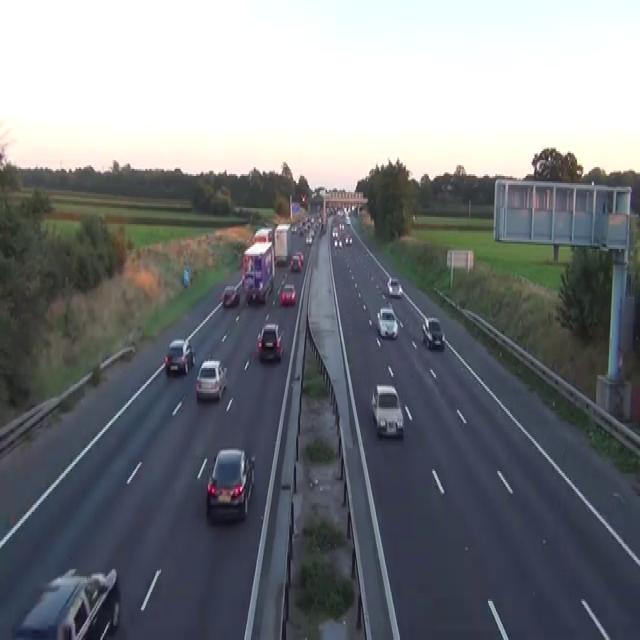Car: (12, 566, 120, 638), (206, 448, 255, 521), (371, 384, 404, 437), (195, 357, 227, 402), (164, 338, 195, 375), (256, 322, 283, 361), (421, 316, 444, 348), (376, 306, 398, 338), (221, 284, 239, 308), (386, 275, 402, 297), (280, 283, 296, 304), (289, 254, 301, 272), (243, 272, 254, 290), (183, 267, 190, 286), (275, 254, 287, 265), (297, 251, 304, 263), (344, 235, 352, 245), (305, 235, 312, 245), (332, 226, 338, 236), (337, 238, 342, 249), (339, 220, 344, 230), (345, 215, 350, 224), (301, 194, 306, 202), (291, 226, 296, 234), (333, 238, 337, 247)
Truck: (241, 240, 274, 304), (274, 222, 291, 263)
